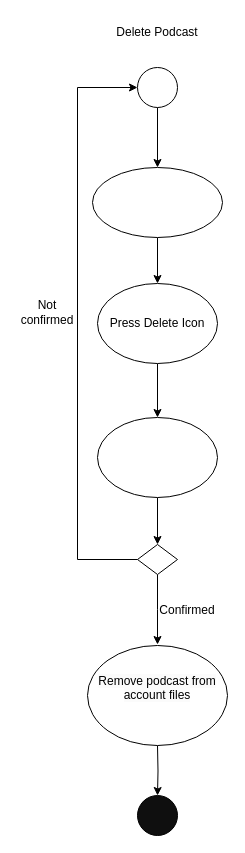
This 245x853 diagram has some shape labels left out. Here are the shapes that lost their labels. From the top down, the box of each, then its label:
(92, 166, 222, 238): Select podcast to delete
(96, 416, 218, 498): User asked for deletion conformation
